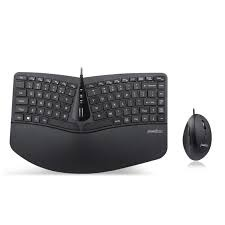keyboard: (6, 67, 173, 159)
mouse: (178, 104, 216, 165)
